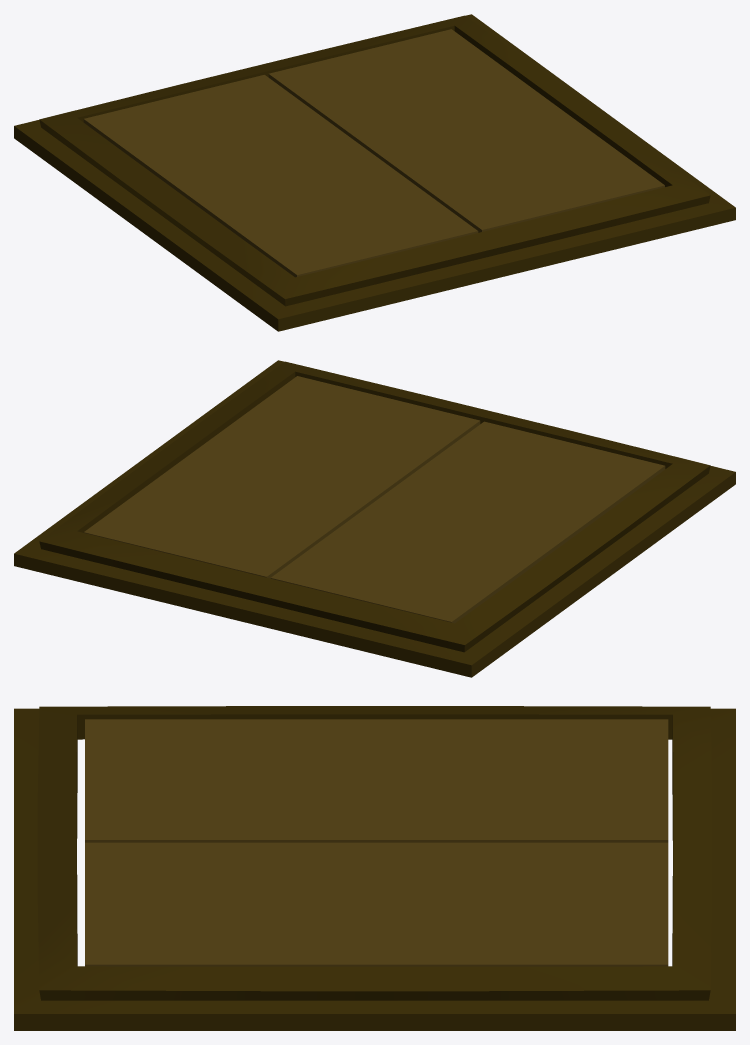
Rendered from new_trapdoor.fbx.
3 renders of one model, top to bottom at view 1: azimuth 30°, elevation 25°; view 2: azimuth 150°, elevation 25°; view 3: azimuth 270°, elevation 25°, orthographic. The views are drawn at different scales.
Visible parts, largest first — view 1: trapdoor_frame, right_door, left_door; view 2: trapdoor_frame, right_door, left_door; view 3: trapdoor_frame, right_door, left_door.
Boxes of the visible parts, box(x1,y1,x2,y2) form: trapdoor_frame: box(14, 14, 735, 331); right_door: box(268, 29, 664, 232); left_door: box(83, 75, 478, 277); trapdoor_frame: box(14, 360, 735, 677); right_door: box(83, 376, 480, 578); left_door: box(270, 421, 665, 623); trapdoor_frame: box(14, 706, 735, 1030); right_door: box(85, 842, 668, 966); left_door: box(85, 719, 668, 842).
Bounding box in the file's own units: 1 × 0.0608 × 1.
